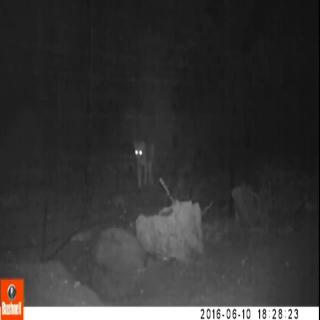Leopard: (111, 117, 168, 191)
